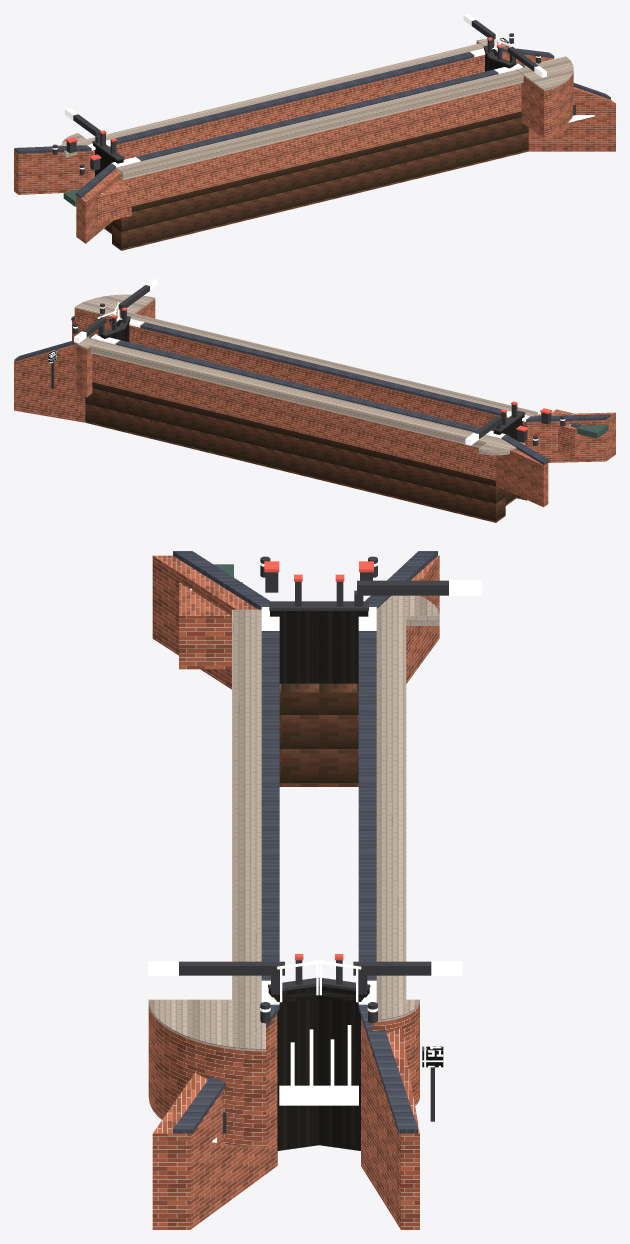
File: lock-51.glb
The picture shows the model from 3 angles, top to bottom: view 1: azimuth 30°, elevation 25°; view 2: azimuth 150°, elevation 25°; view 3: azimuth 270°, elevation 25°; orthographic projection. The views are drawn at different scales.
Visible parts, largest first — view 1: Chamber, ChamberWet, Edge, Coping.001, TopGateCap, Coping, TopGate; view 2: Chamber, ChamberWet, Edge, Coping.001, TopGateCap, Coping, TopGate, WeirWater; view 3: Chamber, Edge, Coping.001, TopGate, ChamberWet, TopGateCap, Coping, Leak.
Boxes of the visible parts, x1,y1,x2,y2 form: Chamber: [14, 42, 615, 243]; ChamberWet: [104, 111, 528, 250]; Edge: [61, 39, 573, 179]; Coping.001: [14, 47, 610, 198]; TopGateCap: [52, 20, 575, 174]; Coping: [52, 14, 546, 169]; TopGate: [93, 48, 516, 176]; Chamber: [14, 299, 615, 507]; ChamberWet: [85, 382, 526, 522]; Edge: [74, 294, 537, 455]; Coping.001: [14, 316, 610, 464]; TopGateCap: [51, 285, 565, 446]; Coping: [73, 279, 565, 445]; TopGate: [98, 319, 524, 442]; WeirWater: [577, 424, 608, 438]; Chamber: [148, 555, 439, 1229]; Edge: [148, 595, 439, 1051]; Coping.001: [173, 551, 437, 1133]; TopGate: [268, 611, 369, 1150]; ChamberWet: [277, 683, 358, 1165]; TopGateCap: [179, 556, 448, 1133]; Coping: [148, 562, 481, 1012]; Leak: [190, 588, 358, 1142].
Size of the model in its own units: 32.43 by 5.78 by 8.82.
Materials: 11 (8 with a texture image).
